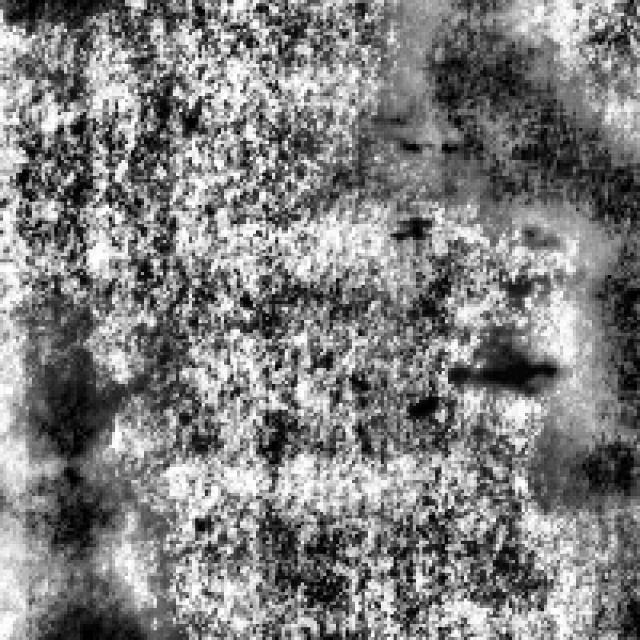Scratches: (387, 4, 634, 502), (6, 371, 134, 637)
